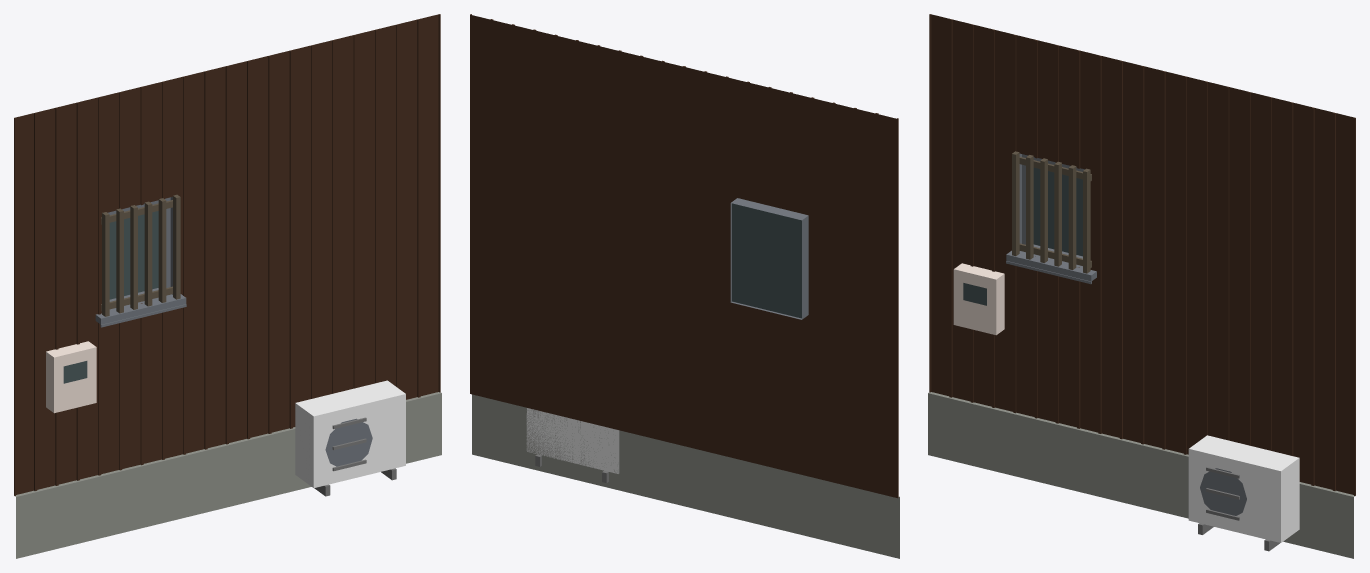
Rendered from base-w4_close.fbx.
3 renders of one model, left to right at view 1: azimuth 30°, elevation 25°; view 2: azimuth 150°, elevation 25°; view 3: azimuth 330°, elevation 25°, orthographic.
Visible parts, largest first — view 1: a2000/0/base-w4_close; view 2: a2000/0/base-w4_close; view 3: a2000/0/base-w4_close.
Boxes of the visible parts, x1,y1,x2,y2 form: a2000/0/base-w4_close: (14, 14, 441, 558); a2000/0/base-w4_close: (470, 14, 899, 558); a2000/0/base-w4_close: (928, 14, 1355, 558).
Bounding box in the file's own units: 3.6 × 3.55 × 0.42.
